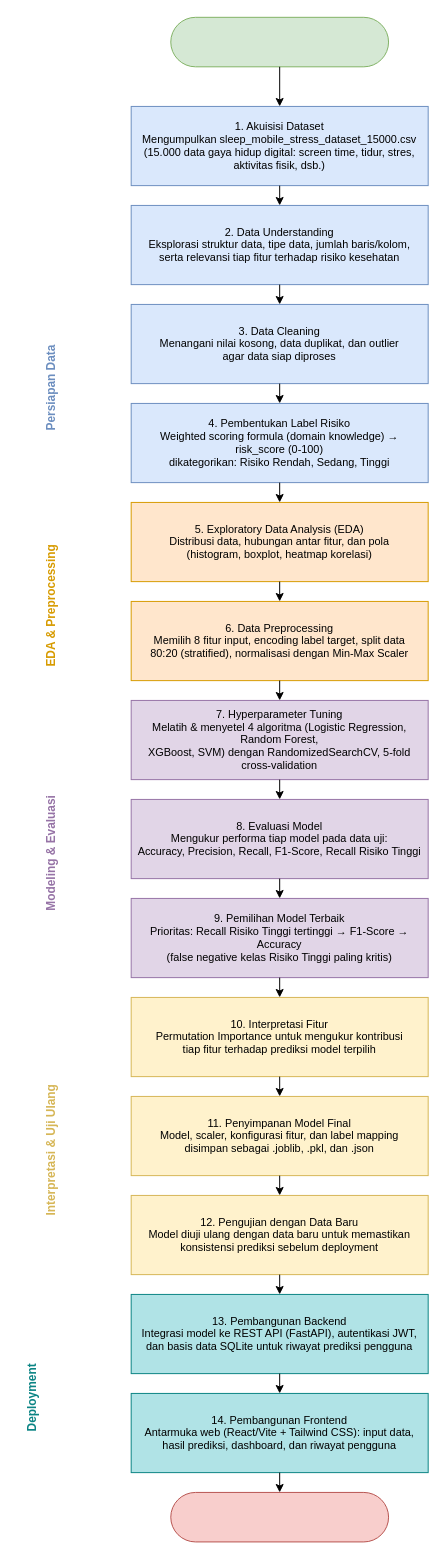
Image size: 446x1559. Some labels were removed from this diagram. The centre of each missing label's shape, as x and y in pixels:
"Mulai" goes at point 279,41.
"Selesai" goes at point 279,1516.
